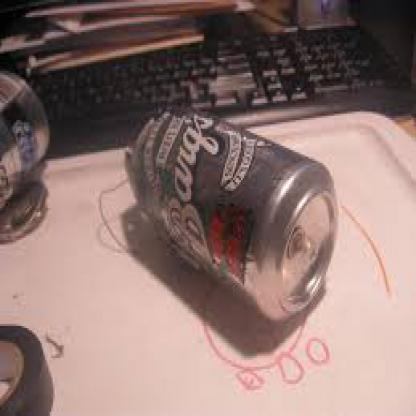Compsot: (124, 103, 337, 317), (0, 54, 48, 240)
